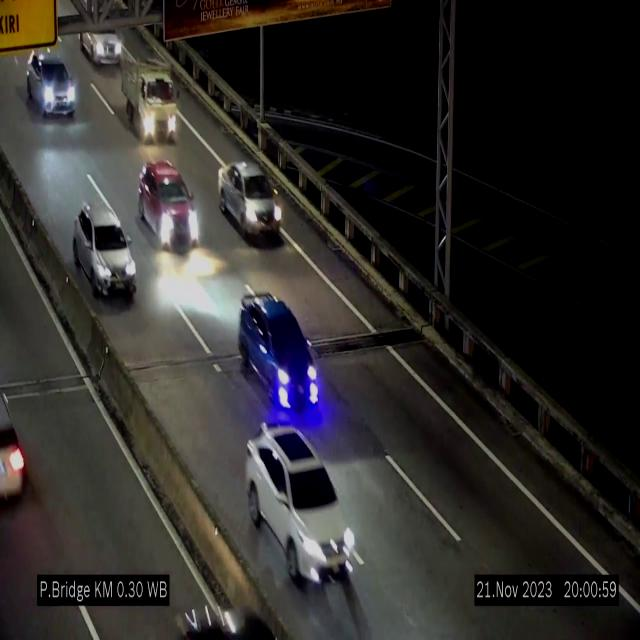Car: (246, 419, 352, 581), (235, 287, 323, 423), (136, 157, 202, 259), (73, 201, 136, 298), (217, 161, 283, 243), (116, 55, 176, 138), (0, 381, 30, 514), (27, 53, 77, 115), (76, 19, 126, 70)
